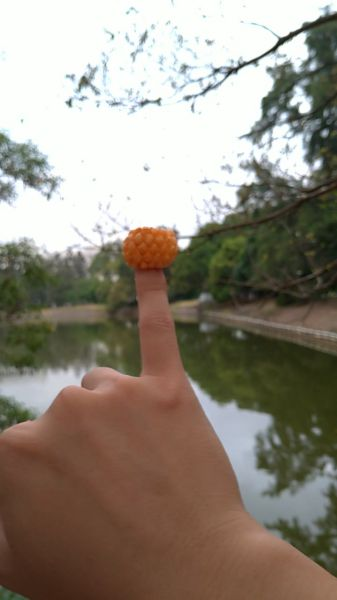eggs: (124, 229, 178, 269)
